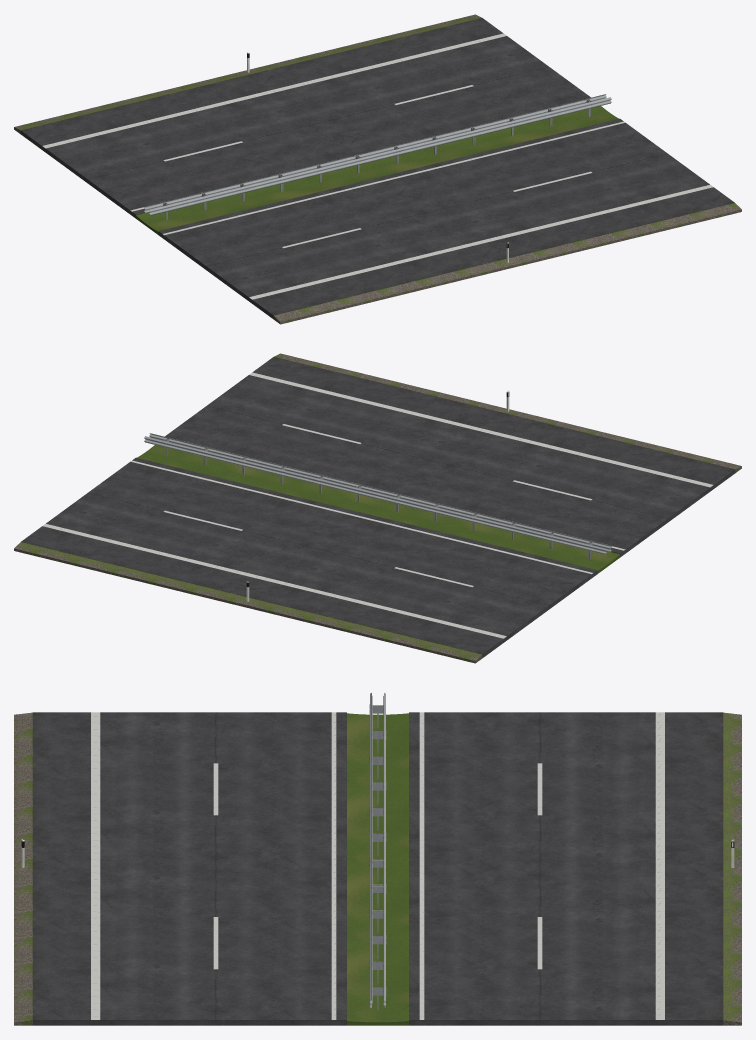
Rendered from highway-segment.glb.
The picture shows the model from 3 angles, top to bottom: view 1: azimuth 30°, elevation 25°; view 2: azimuth 150°, elevation 25°; view 3: azimuth 270°, elevation 25°; orthographic projection. The views are drawn at different scales.
Visible parts, largest first — view 1: highway-segment_asphalt, highway-segment_median_grass, highway-segment_verge, highway-segment_body, highway-segment_road_marking; view 2: highway-segment_asphalt, highway-segment_median_grass, highway-segment_verge, highway-segment_body, highway-segment_road_marking; view 3: highway-segment_asphalt, highway-segment_median_grass, highway-segment_verge, highway-segment_road_marking, highway-segment_body.
Boxes of the visible parts, x1,y1,x2,y2 form: highway-segment_asphalt: (20,18,734,319); highway-segment_median_grass: (136,106,618,234); highway-segment_verge: (14,14,741,324); highway-segment_body: (144,51,611,262); highway-segment_road_marking: (42,33,713,299); highway-segment_asphalt: (21,357,735,658); highway-segment_median_grass: (137,445,619,573); highway-segment_verge: (14,353,741,663); highway-segment_body: (144,390,611,601); highway-segment_road_marking: (42,372,713,638); highway-segment_asphalt: (32,712,723,1025); highway-segment_median_grass: (347,713,408,1025); highway-segment_verge: (14,712,741,1025); highway-segment_road_marking: (91,712,664,1019); highway-segment_body: (21,693,734,1010).
Size of the model in its own units: 23.6 by 1.16 by 23.6.
Materials: 5 (5 with a texture image).
